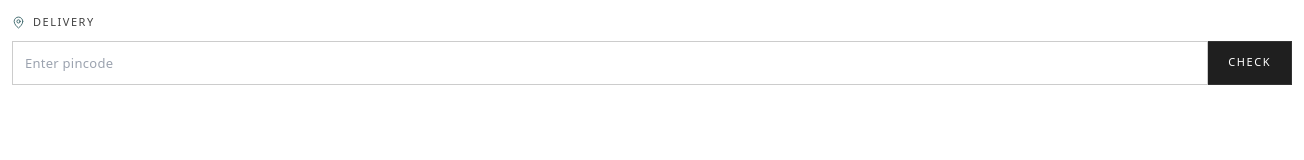
it: PincodeChecker › still asks again for a pincode that is not six digits
In the field with placeholder "Enter pincode": (610, 62) top-left (12, 40), bottom-right (1208, 84), type "12345"
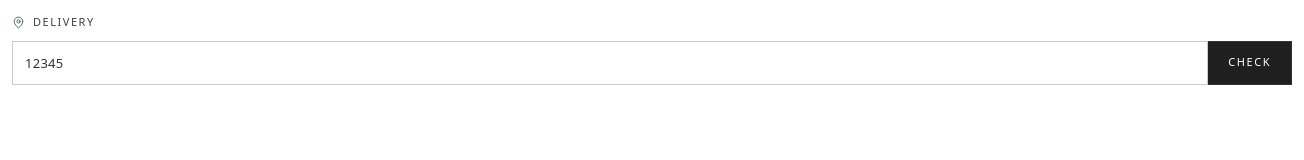
Click the button "Check": (1250, 62) top-left (1208, 40), bottom-right (1292, 84)
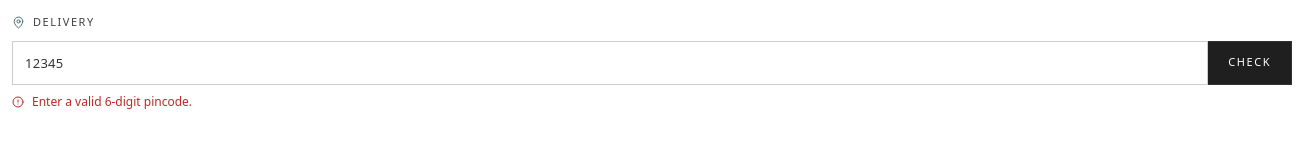
Check: the text "Enter a valid 6-digit pincode." is shown, box top-left (32, 92), bottom-right (192, 110)
